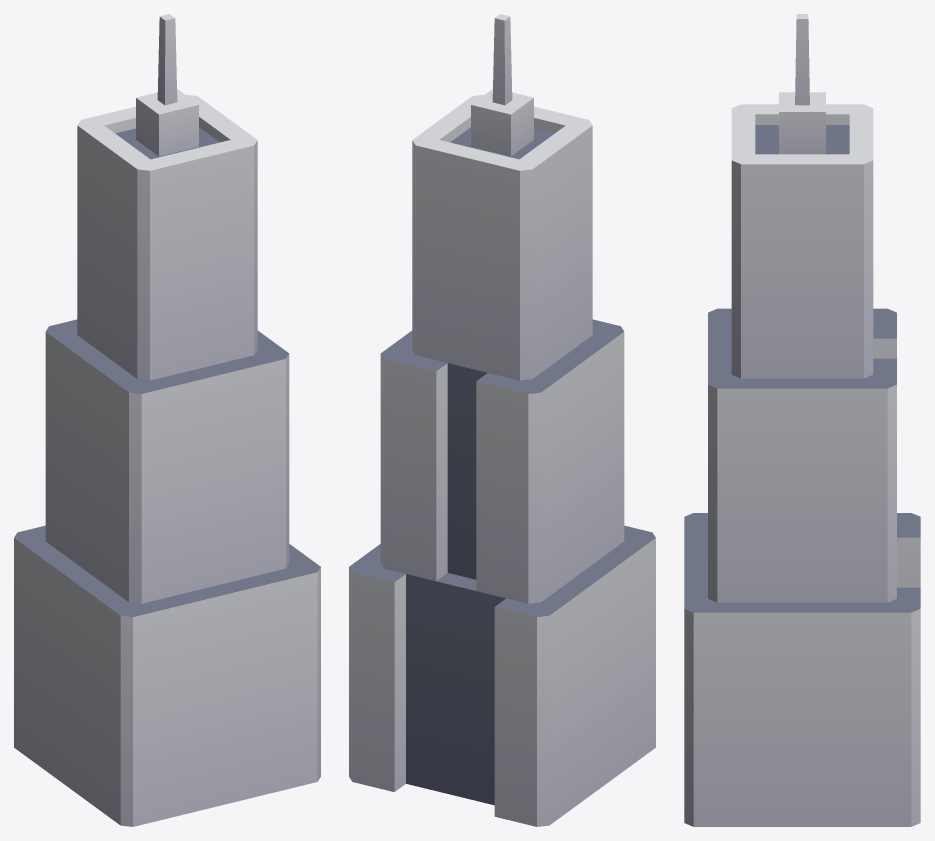
Rendered from commercial__low-detail-building-i.glb.
The picture shows the model from 3 angles, left to right: view 1: azimuth 30°, elevation 25°; view 2: azimuth 150°, elevation 25°; view 3: azimuth 270°, elevation 25°; orthographic projection. The views are drawn at different scales.
Visible parts, largest first — view 1: low-detail-building-i; view 2: low-detail-building-i; view 3: low-detail-building-i.
Boxes of the visible parts, bbox=[...] form: low-detail-building-i: bbox=[14, 14, 320, 826]; low-detail-building-i: bbox=[349, 14, 655, 826]; low-detail-building-i: bbox=[684, 14, 920, 826].
Bounding box in the file's own units: 0.4999 × 1.77 × 0.4999.
1 material, 1 textured.
